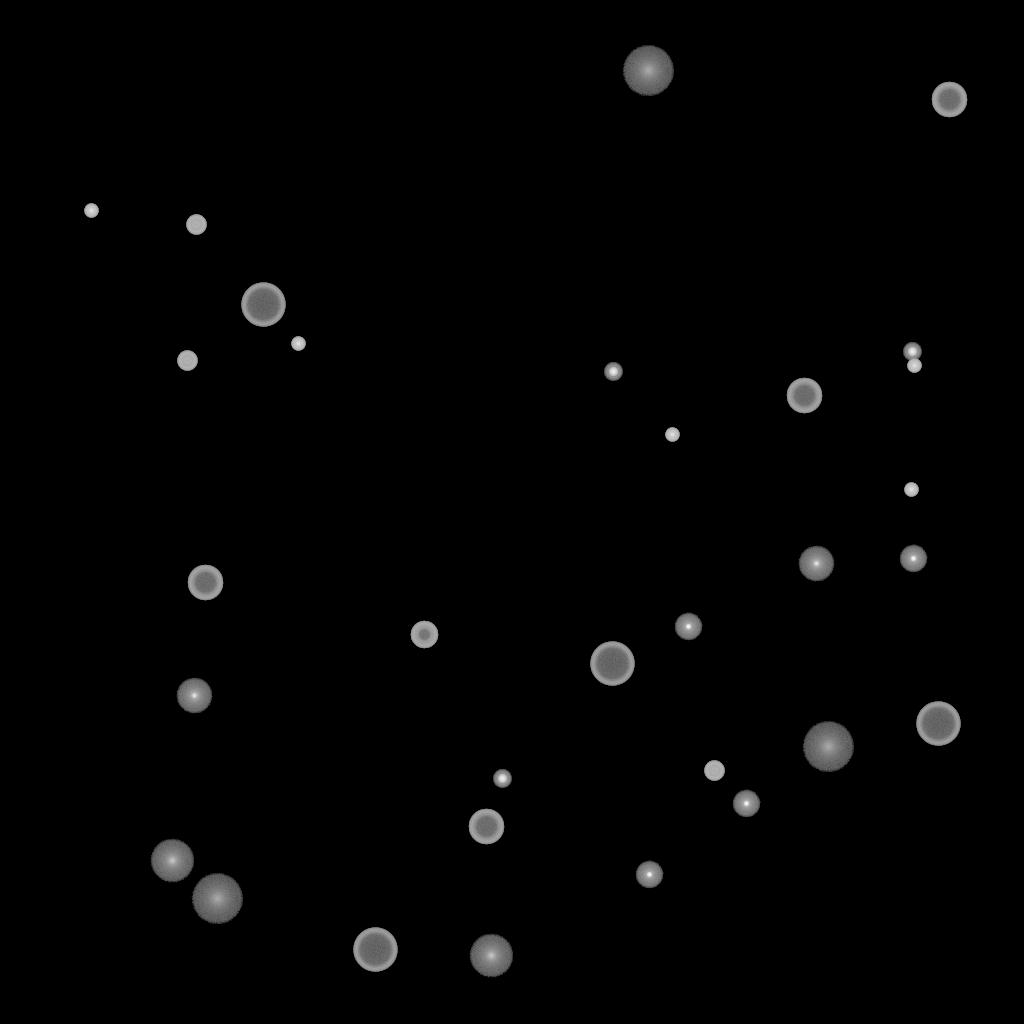depth:-10: (635, 861, 663, 889), (674, 613, 702, 641), (732, 790, 760, 818), (899, 545, 927, 573)
depth:-20: (604, 363, 622, 381), (903, 343, 921, 361), (493, 770, 511, 788)
depth:-30: (665, 428, 679, 442), (291, 337, 305, 351), (84, 204, 98, 218), (907, 359, 921, 373), (904, 483, 918, 497)
depth:-40: (177, 351, 197, 371), (704, 761, 724, 781), (186, 215, 206, 235)
depth:-50: (410, 621, 438, 649)
depth:-60: (468, 809, 504, 845), (786, 378, 822, 414), (931, 82, 967, 118), (187, 565, 223, 601)
depth:-70: (916, 702, 960, 746), (590, 642, 634, 686), (353, 928, 397, 972), (241, 283, 285, 327)
depth:0: (176, 678, 212, 714), (798, 546, 834, 582)
depth:10: (469, 934, 513, 978), (150, 839, 194, 883)
depth:20: (802, 722, 854, 772), (191, 874, 243, 924), (622, 46, 674, 96)
